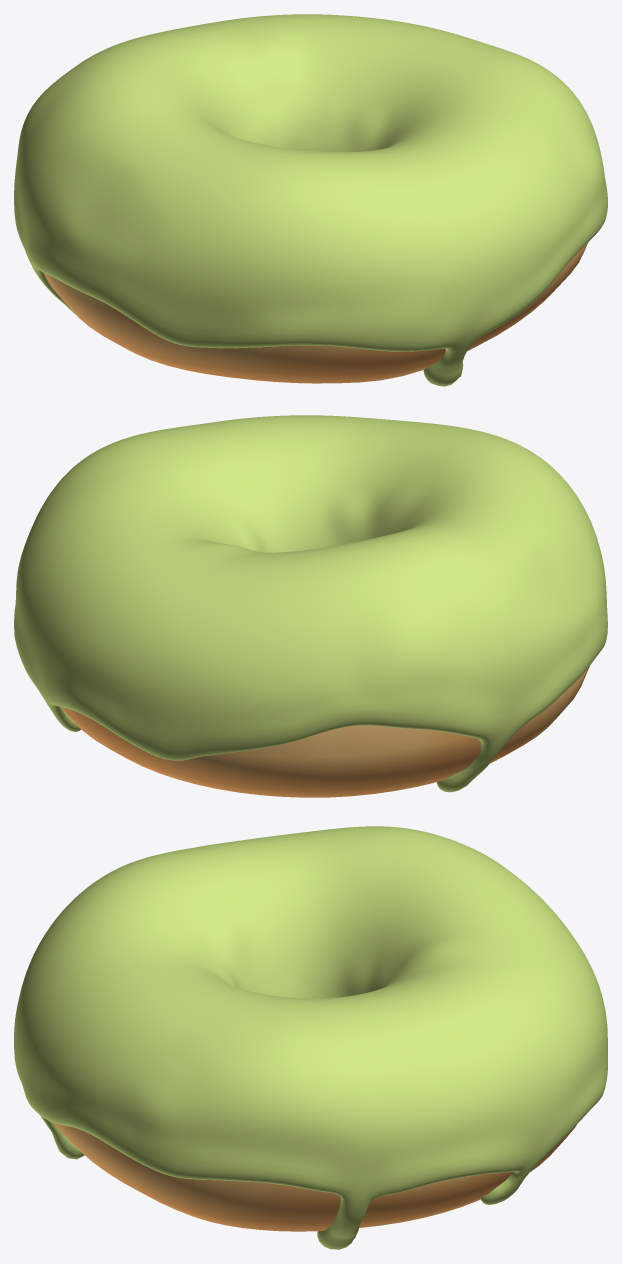
The model's file is Donut 1.fbx.
3 views of the same model, one above another, from view 1: azimuth 30°, elevation 25°; view 2: azimuth 150°, elevation 25°; view 3: azimuth 270°, elevation 25° (orthographic). The views are drawn at different scales.
Visible parts, largest first — view 1: ice, donut; view 2: ice, donut; view 3: ice, donut.
Part boxes in pixels (box(x1,y1,x2,y2)): ice: box(14, 14, 607, 386); donut: box(44, 243, 587, 383); ice: box(14, 415, 607, 792); donut: box(60, 666, 589, 797); ice: box(14, 826, 607, 1249); donut: box(53, 1122, 576, 1231).
Bounding box in the file's own units: 131 × 58.98 × 128.
